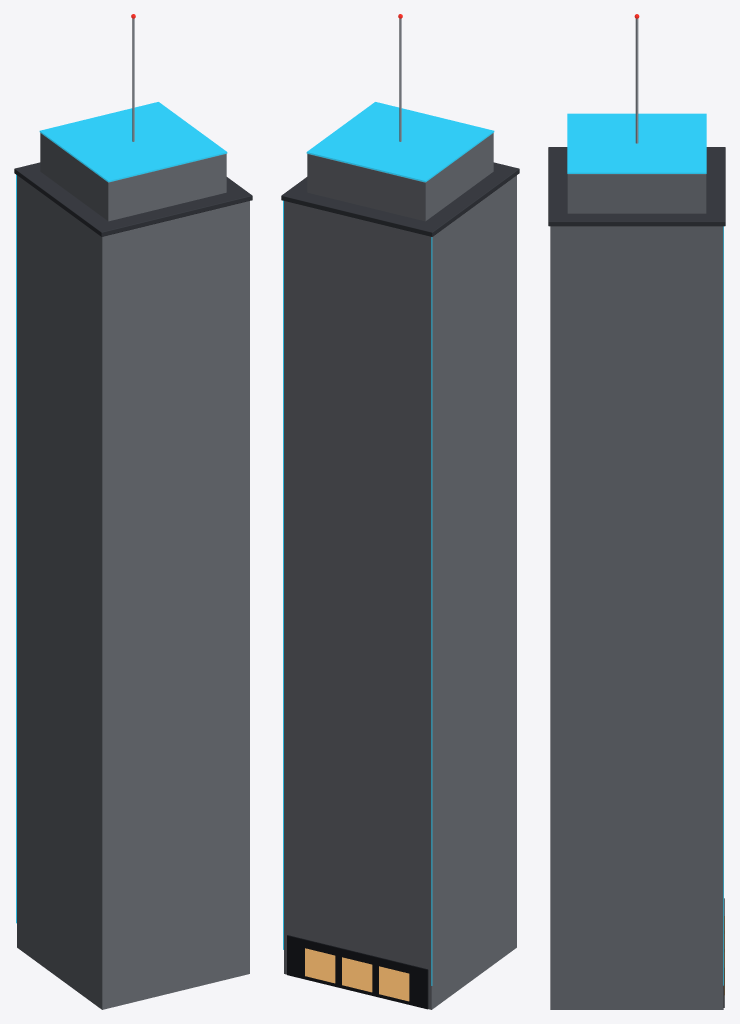
The model's file is building_b.glb.
3 views of the same model, side by side, from view 1: azimuth 30°, elevation 25°; view 2: azimuth 150°, elevation 25°; view 3: azimuth 270°, elevation 25° (orthographic).
Parts seen in each view (by area): view 1: BuildingB; view 2: BuildingB; view 3: BuildingB.
Part boxes in pixels (bbox=[...]): BuildingB: bbox=[14, 14, 252, 1009]; BuildingB: bbox=[281, 14, 519, 1009]; BuildingB: bbox=[548, 14, 725, 1009].
Bounding box in the file's own units: 13.1 × 78.28 × 13.1.
